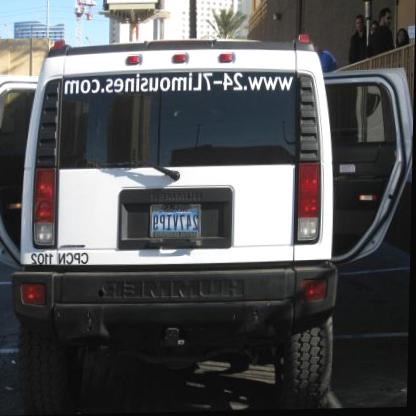License_Plate: (150, 204, 201, 240)
